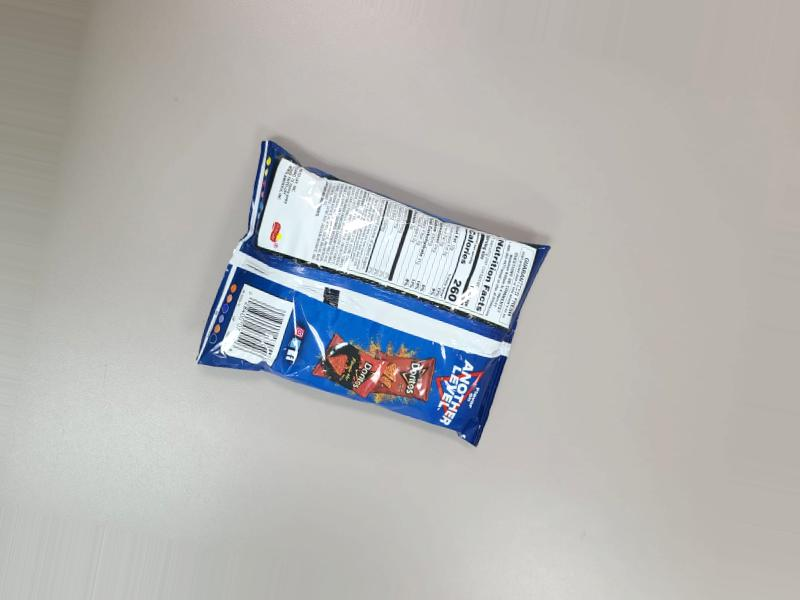doritos: (211, 119, 544, 485)
